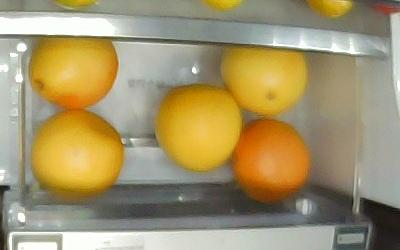grapefruit: (29, 107, 124, 195), (153, 82, 243, 171), (229, 116, 311, 201), (218, 43, 309, 118), (28, 35, 119, 108)
